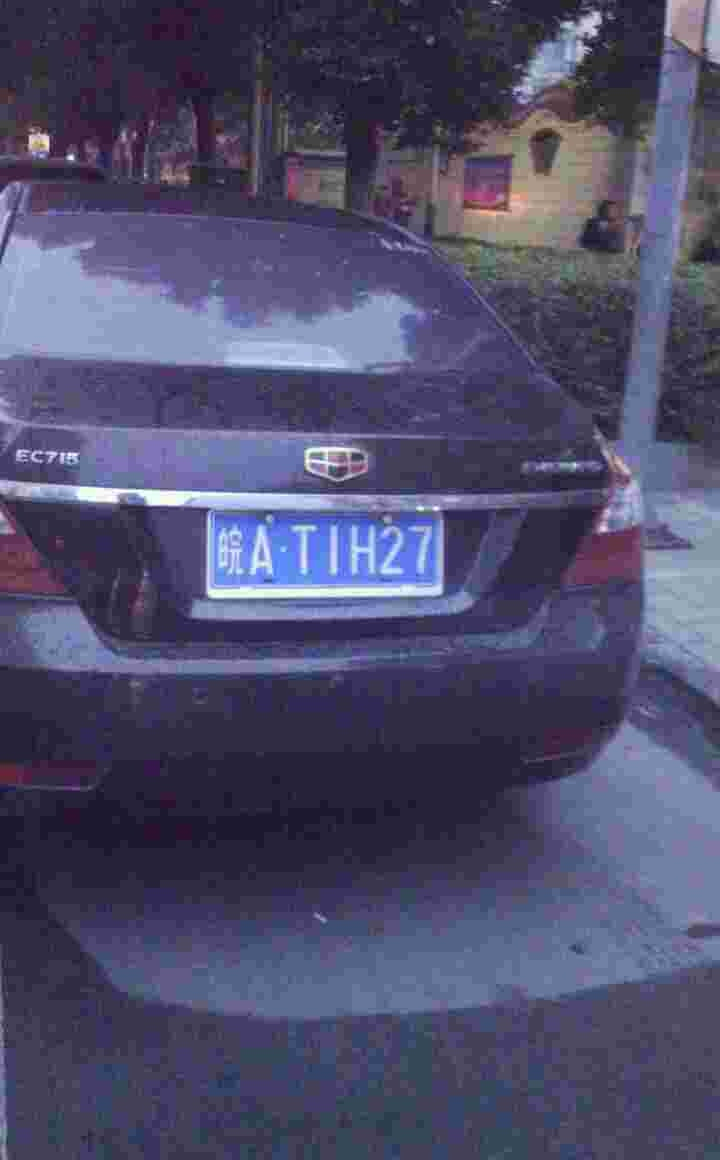license_plate: (213, 510, 449, 589)
